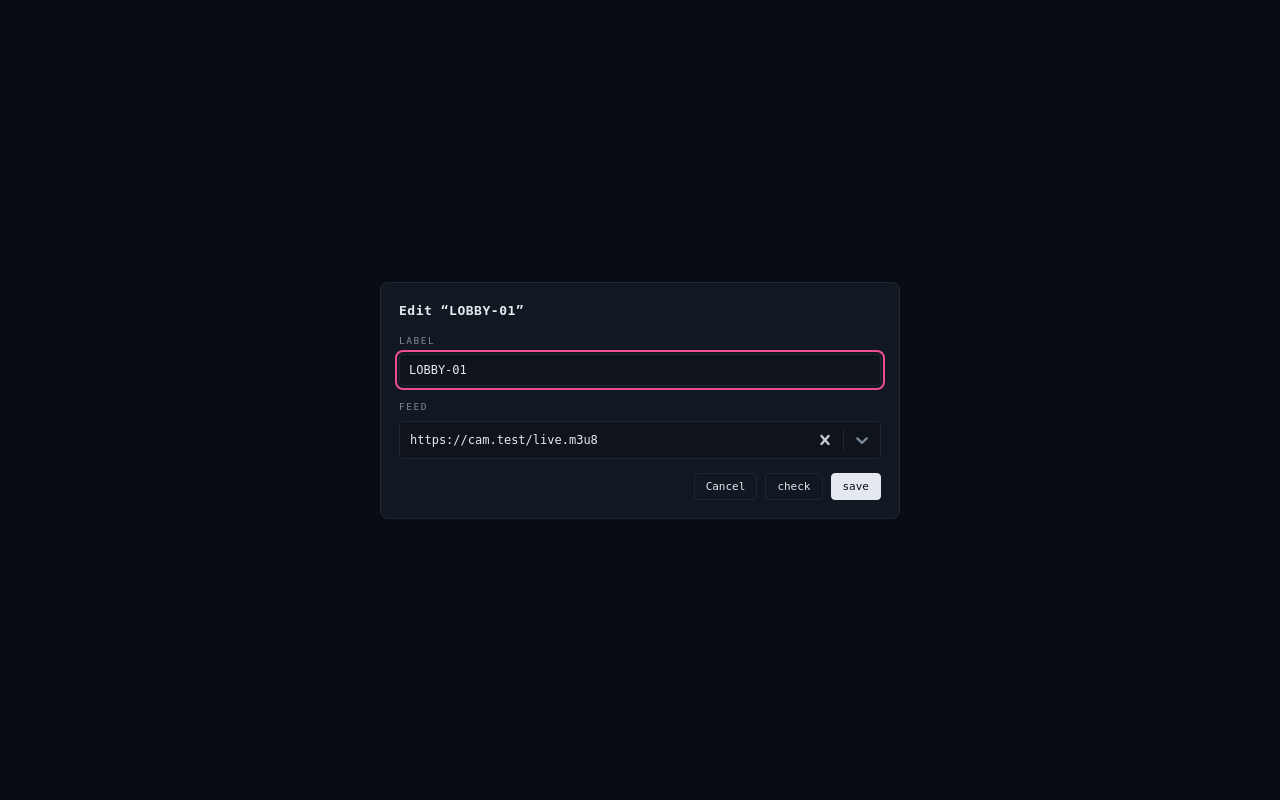
Test: editing an existing feed › a live source is reported as acceptable
Click the button "check" at (794, 486), box [765,472,822,500]
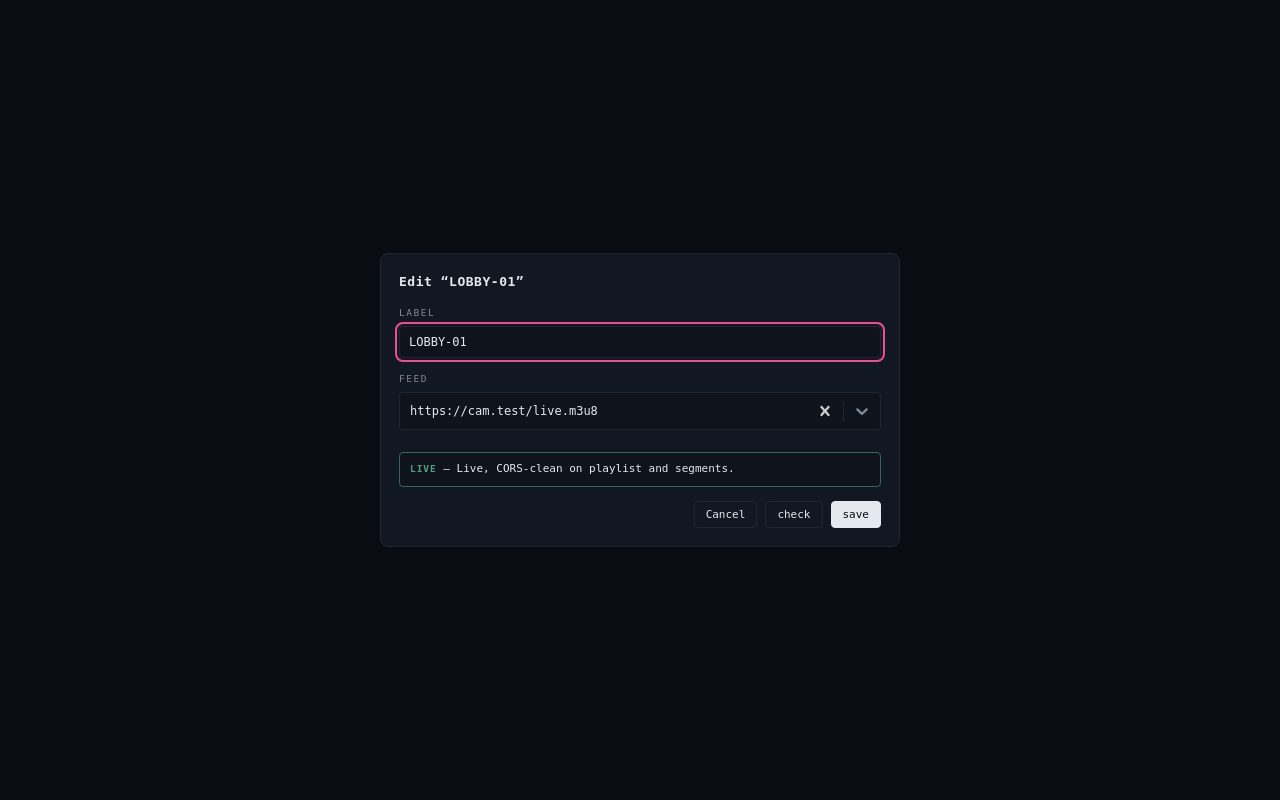
Expected: the element showing "live — Live, CORS-clean on playlist and segments." is shown, [399,452,881,487]
